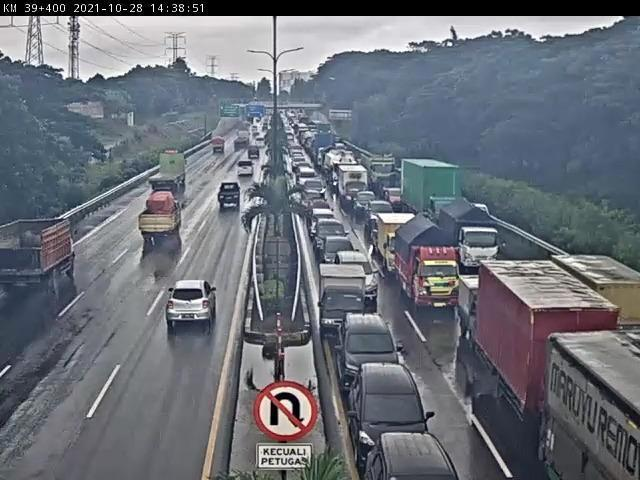bus: (253, 139, 267, 153)
car: (350, 366, 437, 465), (336, 315, 400, 399), (365, 434, 462, 480), (165, 279, 219, 331), (337, 253, 382, 303), (321, 237, 362, 278), (313, 220, 351, 259), (368, 200, 396, 232), (311, 208, 336, 238), (357, 193, 378, 218), (239, 161, 256, 178), (248, 145, 263, 161)
truck: (480, 260, 627, 447), (549, 253, 640, 363), (395, 217, 464, 314), (2, 218, 77, 297), (460, 275, 523, 352), (439, 199, 500, 272), (398, 159, 458, 228), (318, 262, 370, 338), (378, 213, 421, 278), (138, 191, 188, 244), (149, 151, 190, 192), (340, 166, 370, 208), (219, 183, 244, 208), (234, 129, 253, 150), (209, 137, 227, 157)
